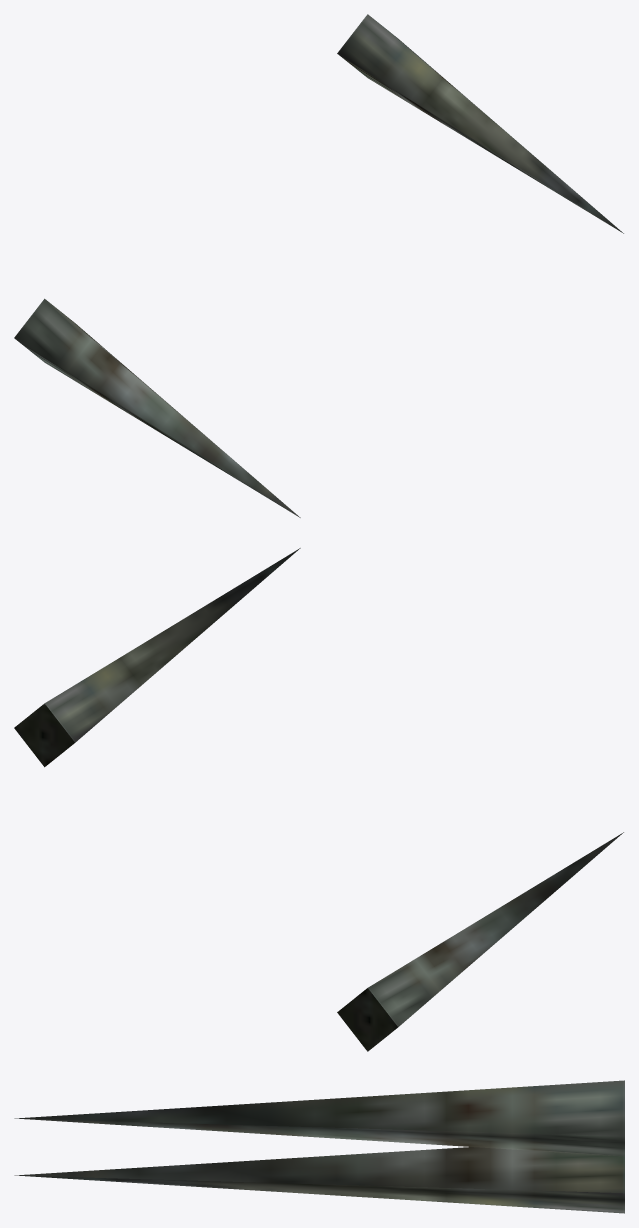
Rendered from xwing_thruster_neg_s01_l3.fbx.
3 renders of one model, top to bottom at view 1: azimuth 30°, elevation 25°; view 2: azimuth 150°, elevation 25°; view 3: azimuth 270°, elevation 25°, orthographic. The views are drawn at different scales.
Parts seen in each view (by area): view 1: mesh_node; view 2: mesh_node; view 3: mesh_node.
Boxes of the visible parts, x1,y1,x2,y2 form: mesh_node: [14, 14, 623, 517]; mesh_node: [14, 548, 623, 1051]; mesh_node: [14, 1080, 624, 1213].
Bounding box in the file's own units: 4.15 × 2.79 × 4.82.
Materials: 1 (1 with a texture image).
